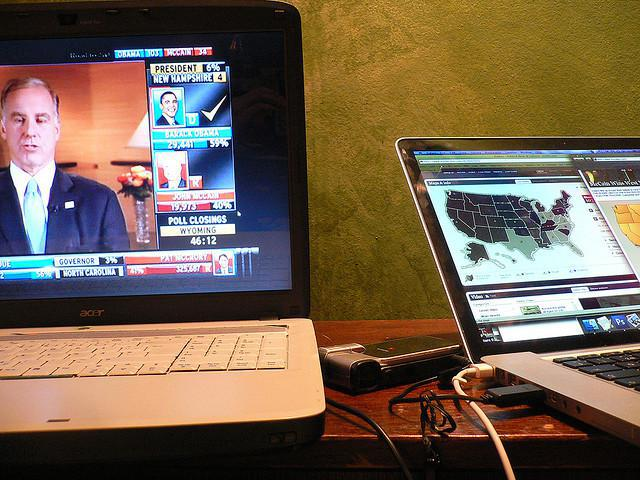phone: (322, 324, 462, 391)
tv: (3, 4, 317, 326), (380, 121, 639, 354)
